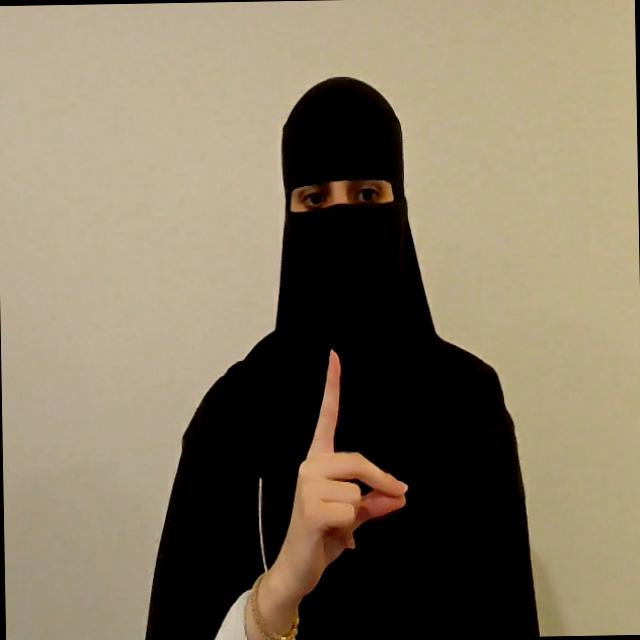emergency: (268, 346, 410, 598)
